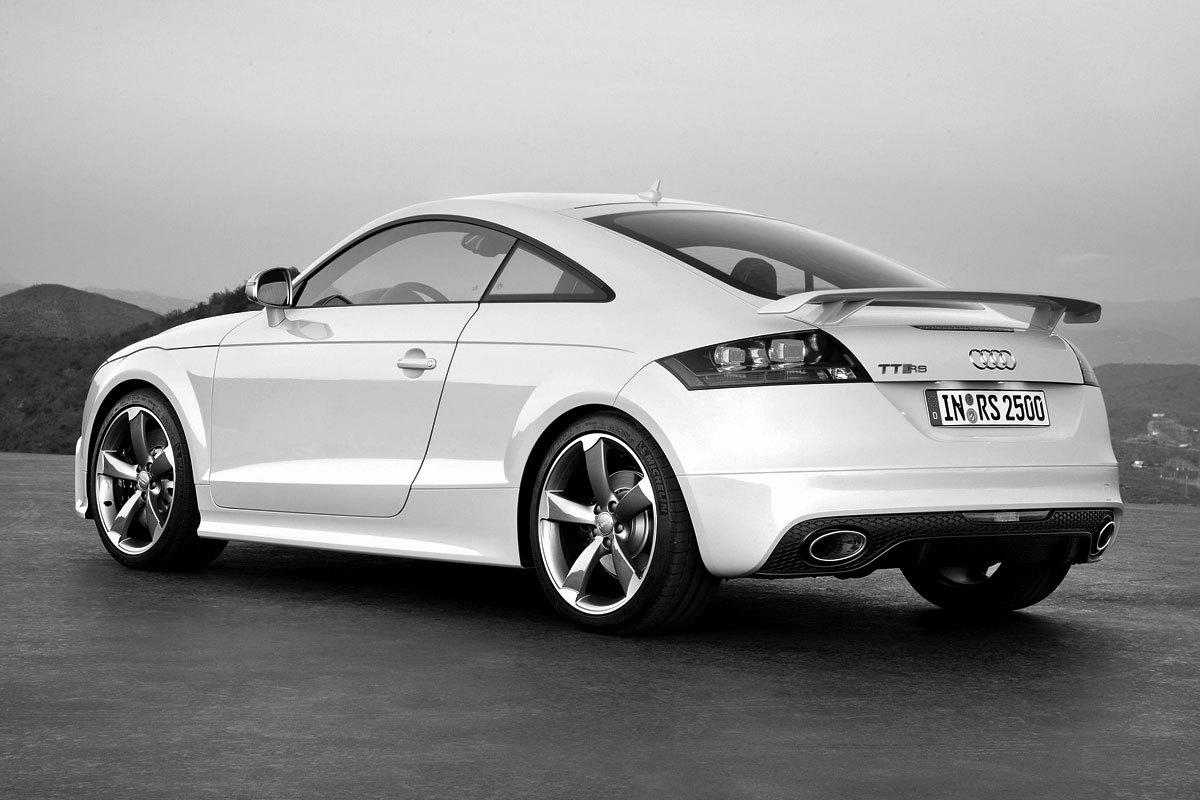car: (69, 175, 1133, 643)
